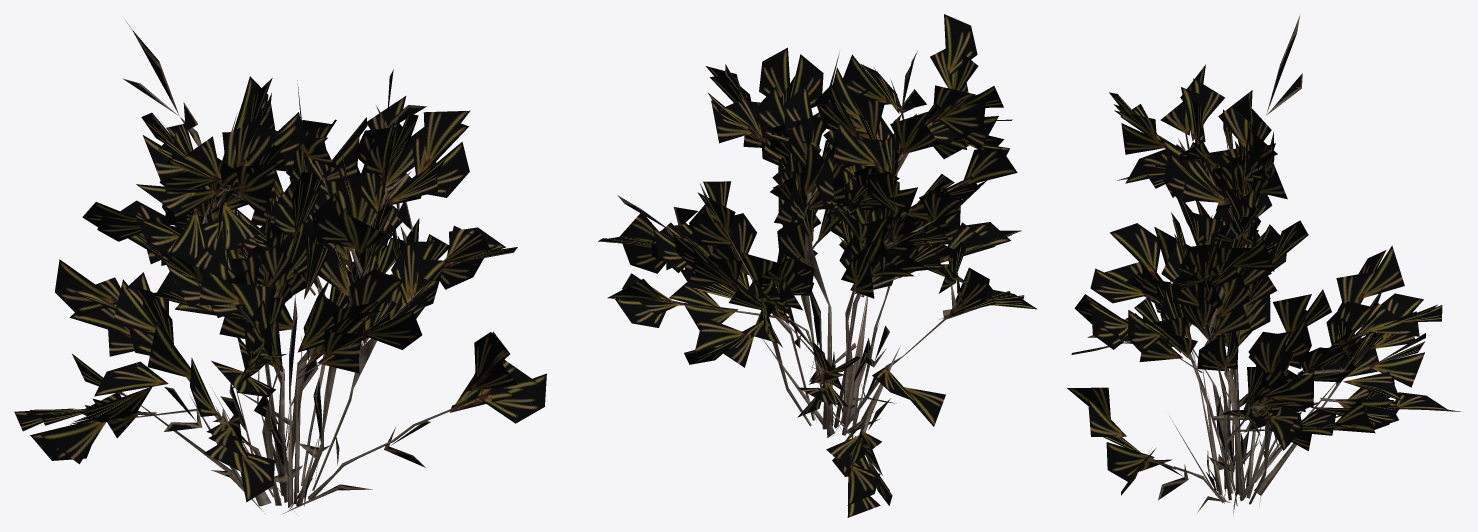
File: cover_bush.glb
3 renders of one model, left to right at view 1: azimuth 30°, elevation 25°; view 2: azimuth 150°, elevation 25°; view 3: azimuth 270°, elevation 25°, orthographic. The views are drawn at different scales.
Visible parts, largest first — view 1: cover_bush; view 2: cover_bush; view 3: cover_bush.
Part boxes in pixels (x1=…): cover_bush: x1=14, y1=20, x2=546, y2=513; cover_bush: x1=598, y1=14, x2=1037, y2=517; cover_bush: x1=1067, y1=14, x2=1460, y2=515.
Bounding box in the file's own units: 0.5451 × 0.5872 × 0.473.
3 materials, 3 textured.
